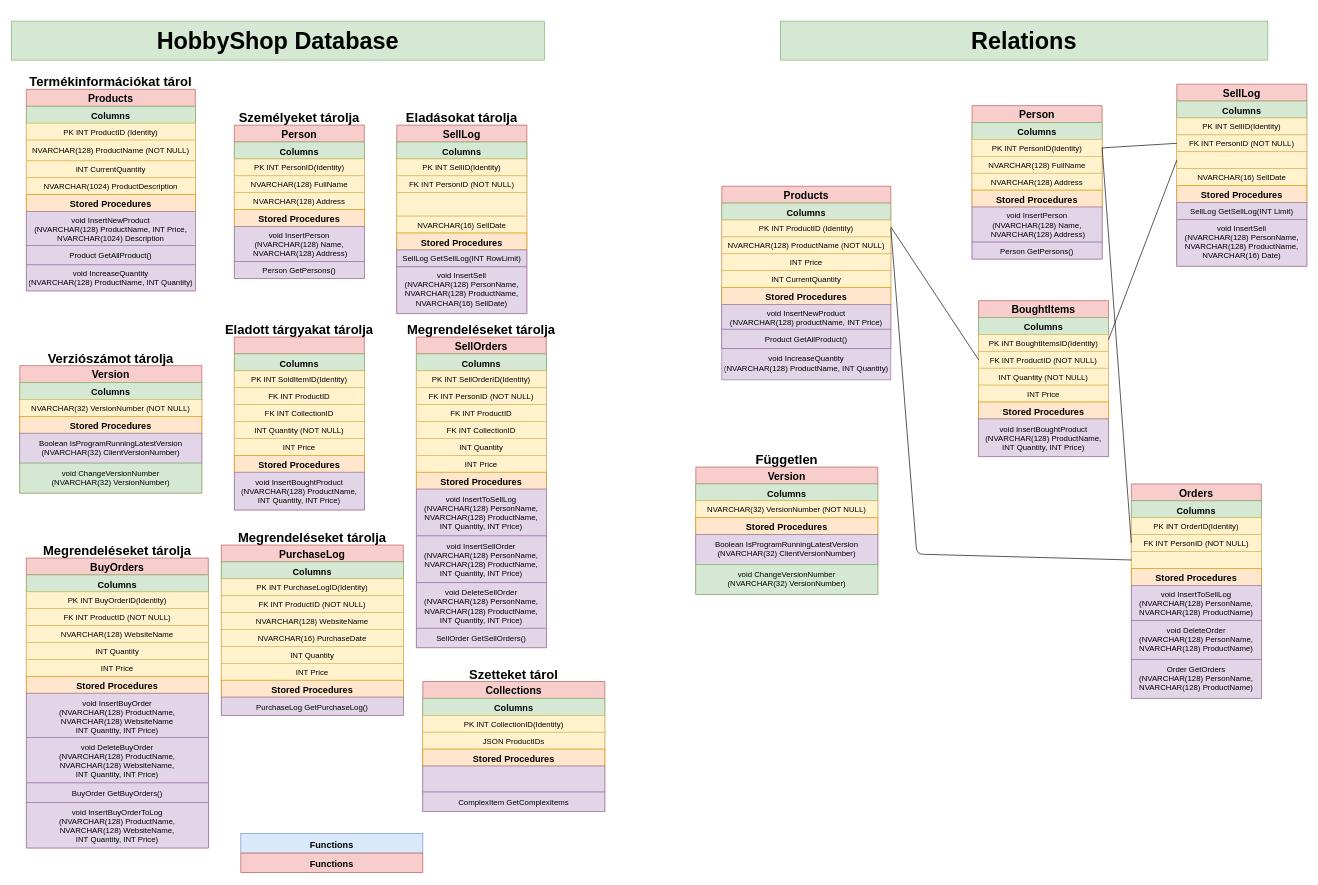
Image size: 1318x885. Some labels were removed from this diagram. Each missing label, with the box of its shape:
FK INT BoughtItemsID (NOT NULL): (1176, 151, 1307, 169)
FK INT ProductID(NOT NULL): (1131, 551, 1261, 568)
FK INT SoldItemID (NOT NULL) UNIQUE: (396, 192, 527, 216)
SoldItems: (234, 336, 364, 510)
void AddNewComplexItem (JSON ProductIDs): (422, 765, 605, 792)
